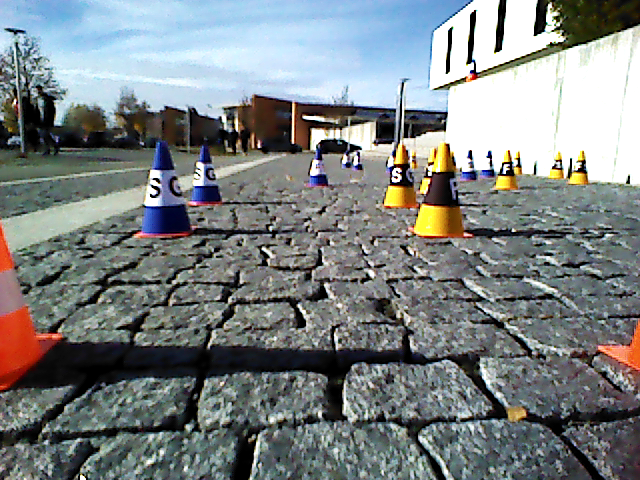bluecone: (144, 142, 192, 232), (193, 146, 220, 202), (310, 148, 328, 185)
orangeconesmall: (1, 223, 56, 392)
yellowcone: (416, 145, 464, 234), (384, 146, 418, 206), (497, 152, 517, 189), (569, 152, 588, 182), (549, 152, 565, 177)
